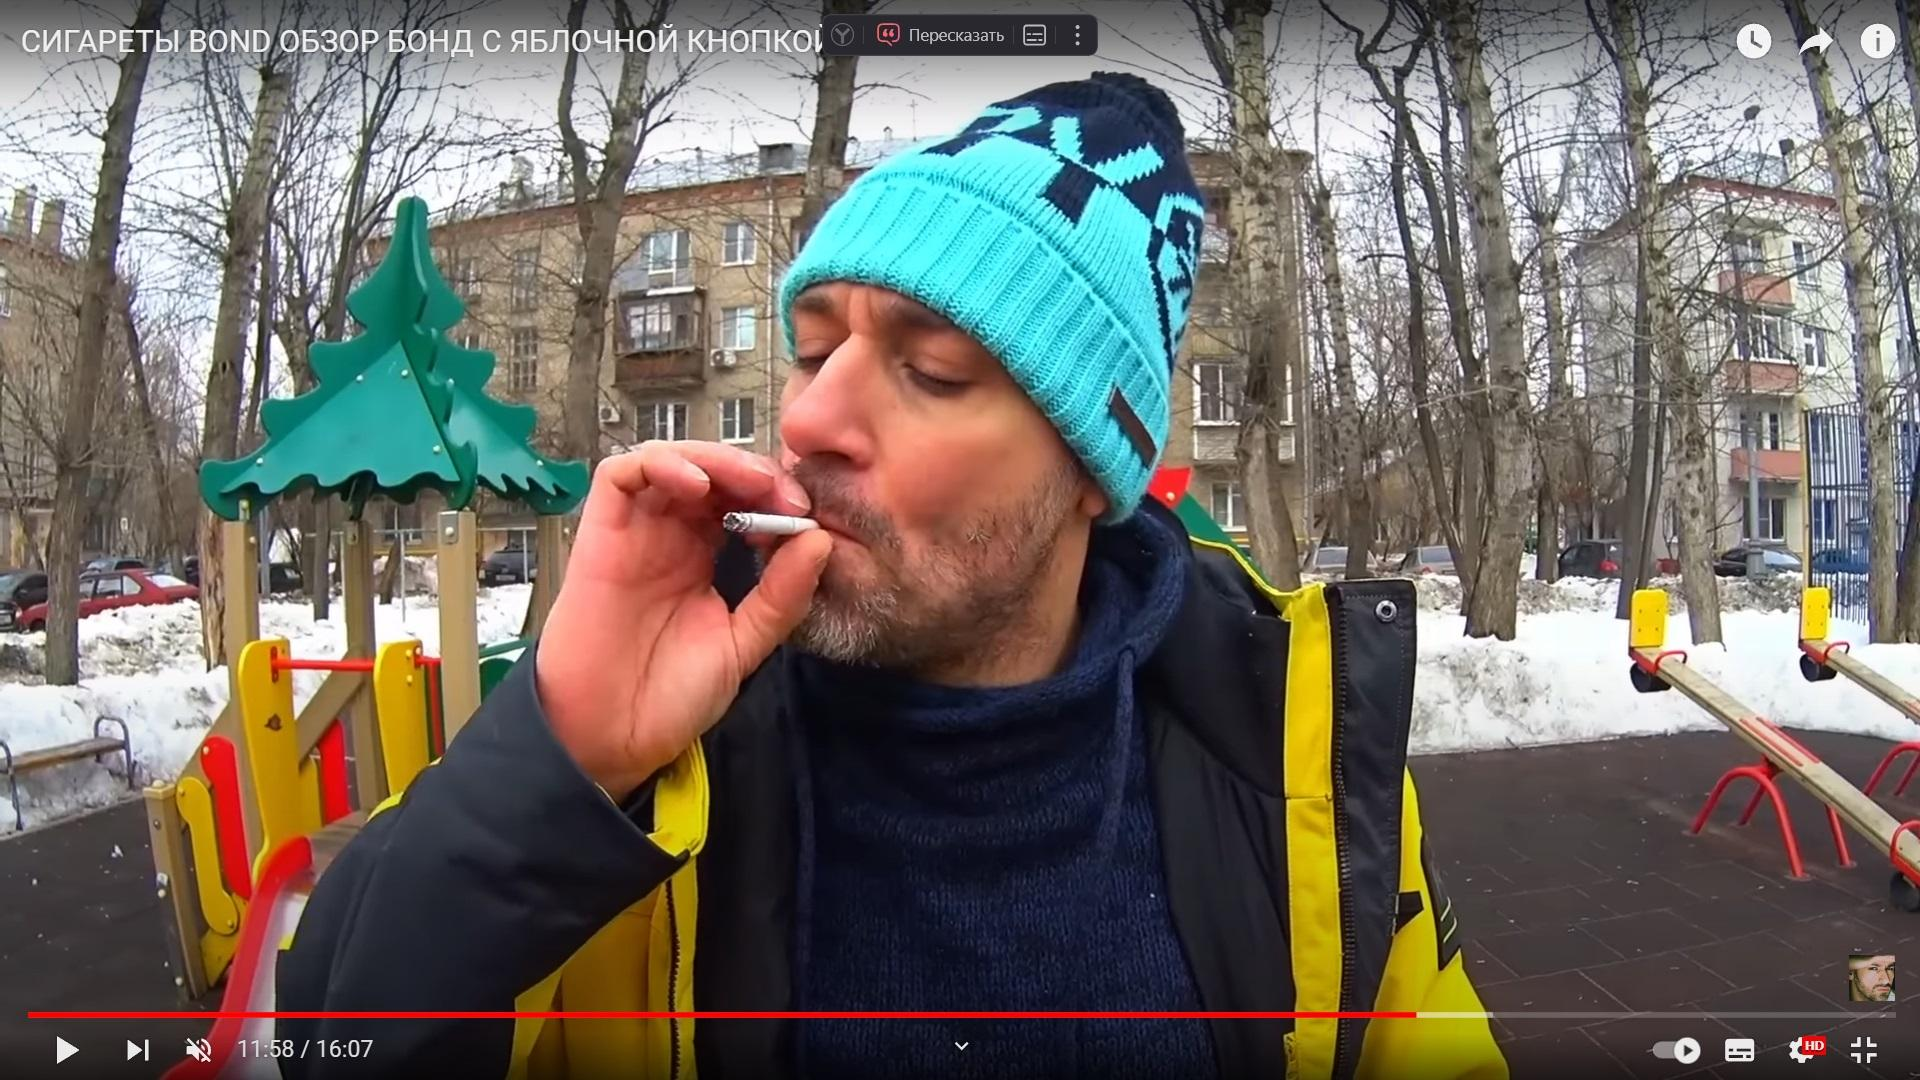cigarette: (723, 512, 825, 535)
